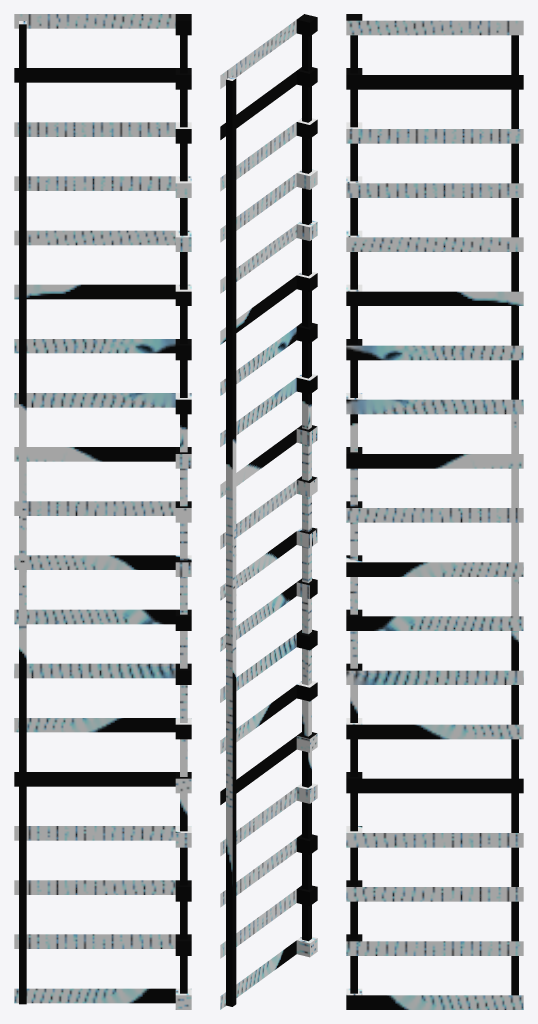
Rendered from Ladder.fbx.
3 renders of one model, left to right at view 1: azimuth 90°, elevation 25°; view 2: azimuth 150°, elevation 25°; view 3: azimuth 270°, elevation 25°, orthographic. The views are drawn at different scales.
Visible parts, largest first — view 1: Cube.003; view 2: Cube.003; view 3: Cube.003.
Boxes of the visible parts, <box> form: Cube.003: <box>14,14,191,1009</box>; Cube.003: <box>220,14,317,1009</box>; Cube.003: <box>346,14,523,1009</box>.
Bounding box in the file's own units: 200 × 13520 × 2200.
